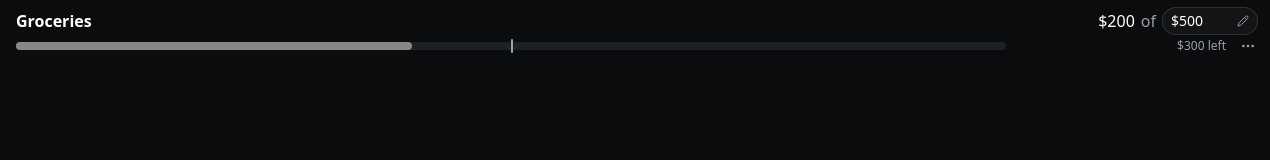
a budget's row › edits in place on a phone: the amount and rolling over, from the row's ⋯ menu
Expected: the button named "Edit Groceries budget" reads "$500", [1162,7,1258,35]
What coordinates should you click on to do the following:
click the button named "Actions for Groceries"
I would click on:
 (1245, 46)
Its box is [1232,30,1258,62].
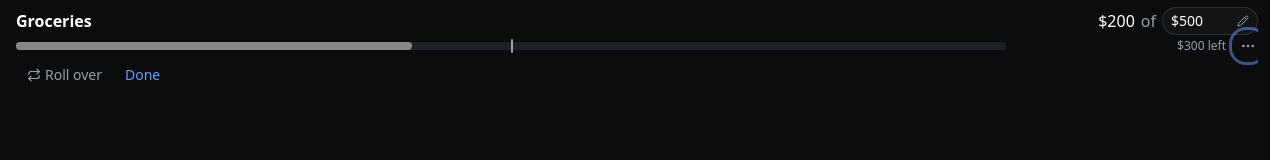
Expected: the text "$300 left" is shown, [1177,37,1226,54]
Result: the button "Roll over" is shown at [16,58,113,92]
